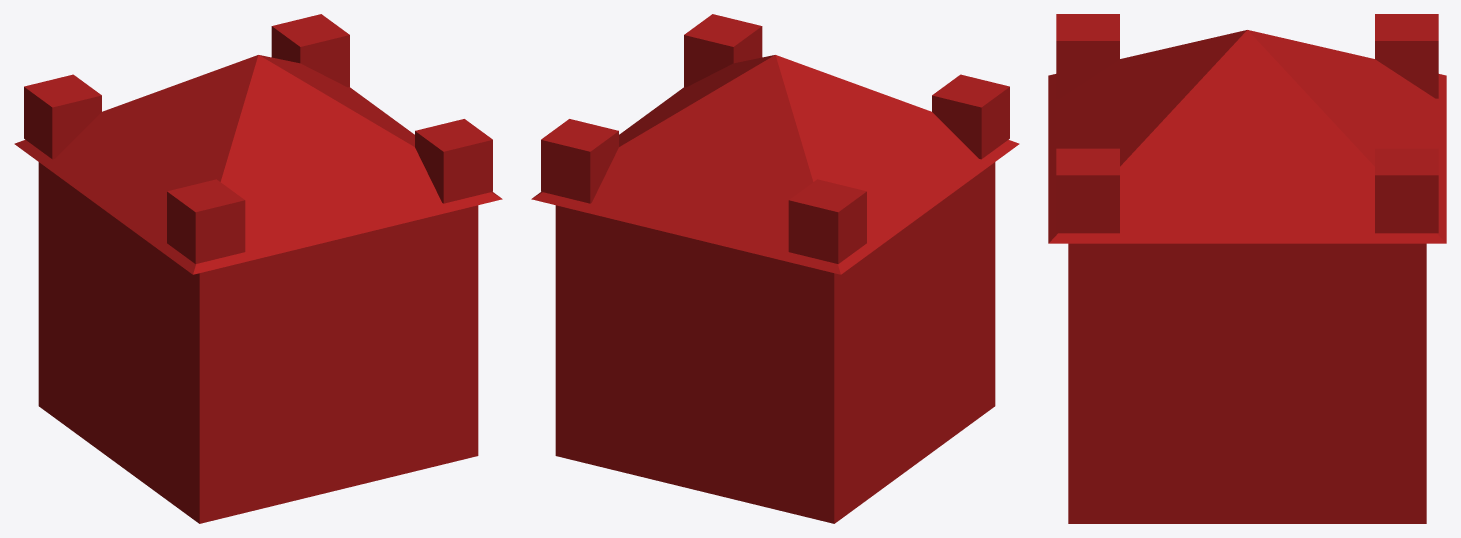
File: armory.obj
3 renders of one model, left to right at view 1: azimuth 30°, elevation 25°; view 2: azimuth 150°, elevation 25°; view 3: azimuth 270°, elevation 25°, orthographic. The views are drawn at different scales.
Size of the model in its own units: 0.5 by 0.58 by 0.5.
